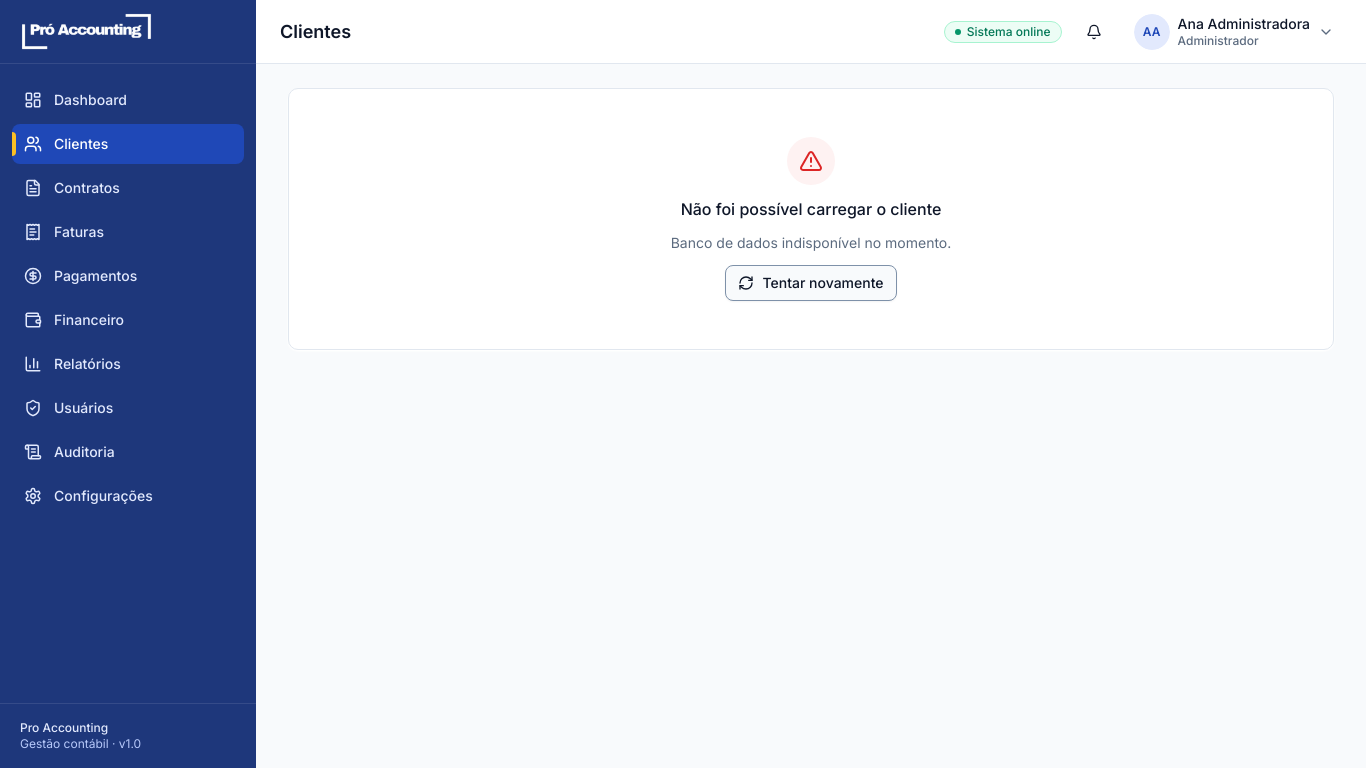
it: erro x não encontrado nas fichas › falha do servidor NÃO é "não encontrado": explica e permite tentar de novo
The width and height of the screenshot is (1366, 768).
expect the text "Não foi possível carregar o cliente" is shown: met, box [681,197,941,221]
expect the text "Banco de dados indisponível no momento." is shown: met, box [671,233,951,253]
Click the button "Tentar novamente". click: (811, 283)
box: [726,265,897,301]
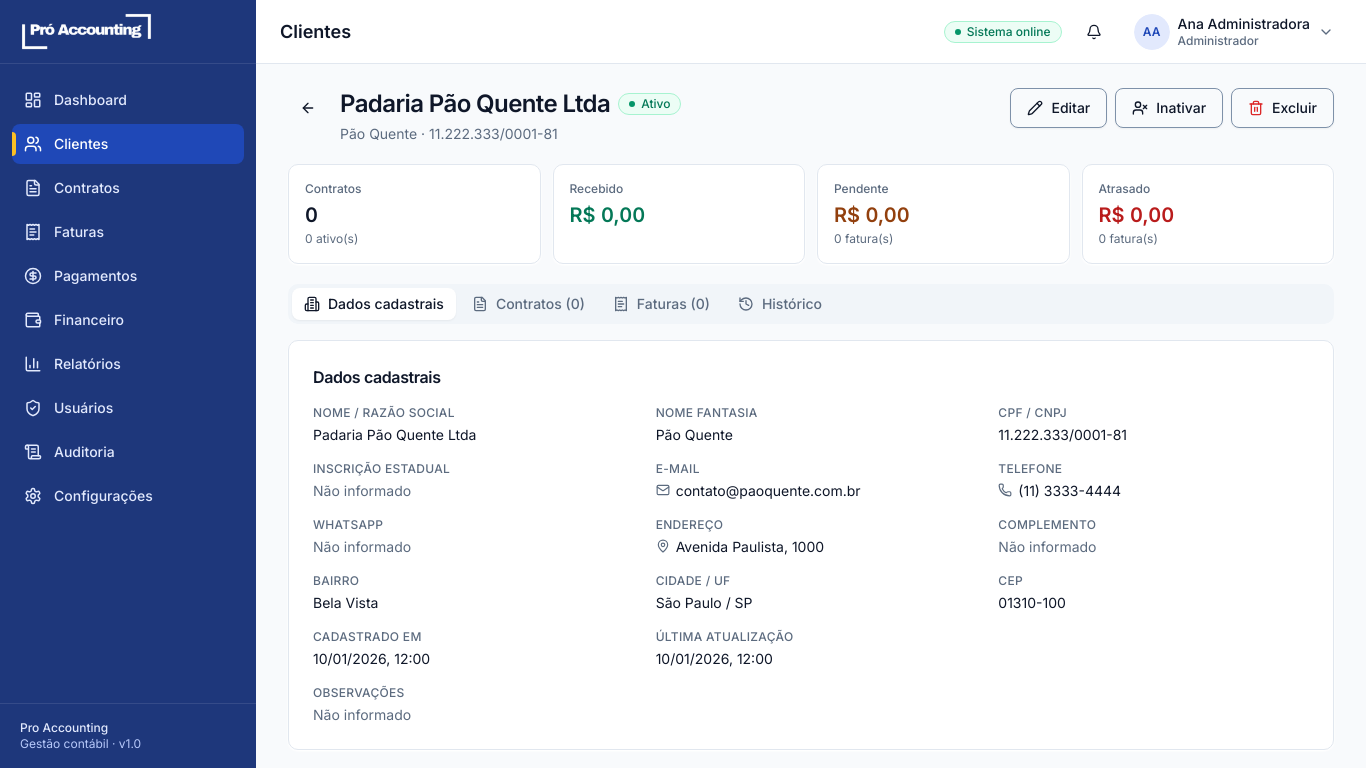
expect the heading "Padaria Pão Quente Ltda" is shown: met, box [340,88,610,120]
